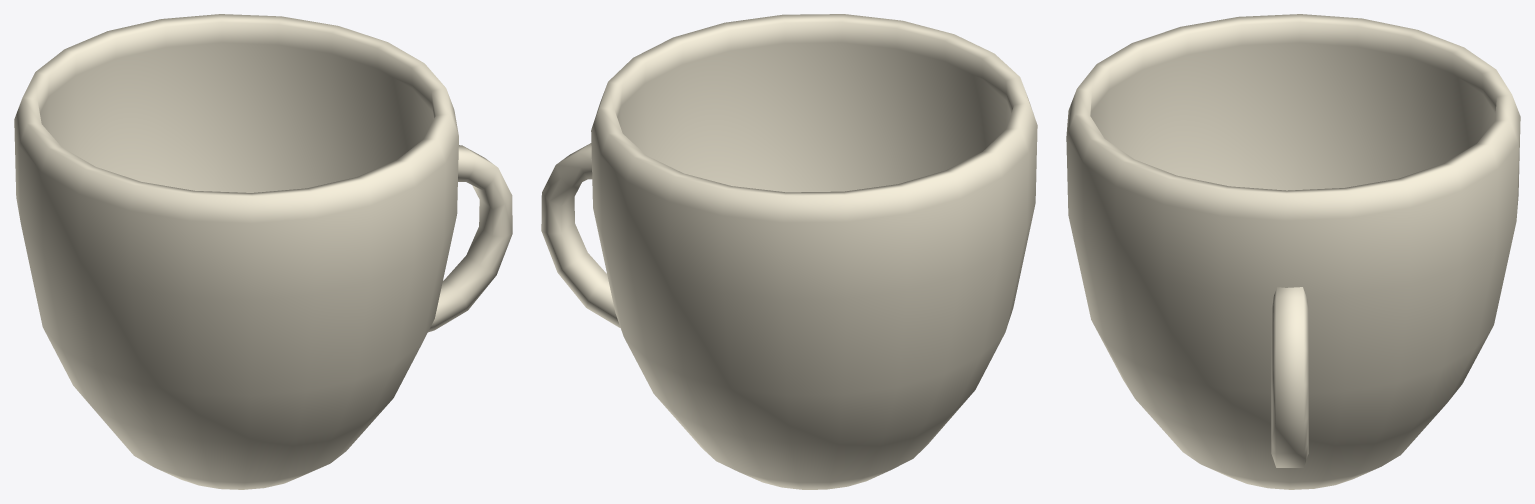
Rendered from Cup.fbx.
3 views of the same model, side by side, from view 1: azimuth 30°, elevation 25°; view 2: azimuth 150°, elevation 25°; view 3: azimuth 270°, elevation 25° (orthographic).
Parts seen in each view (by area): view 1: Cup; view 2: Cup; view 3: Cup.
Part boxes in pixels (left/top/right/bottom): Cup: left=14, top=14, right=512, bottom=489; Cup: left=541, top=14, right=1037, bottom=489; Cup: left=1066, top=14, right=1520, bottom=489.
Size of the model in its own units: 11.52 by 8.42 by 9.83.
